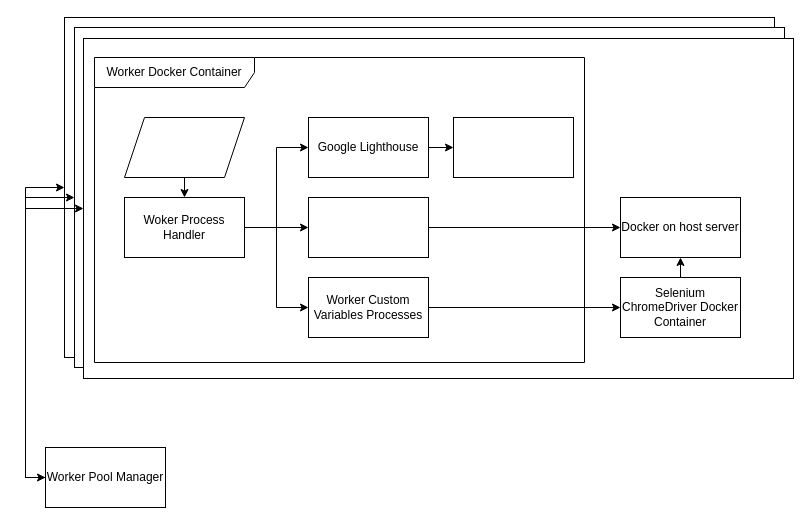
The diagram is 811 pixels wide and 525 high, and some of its shapes have lost their labels. The centre of each missing label's shape, as x and y in pixels:
"Chrome Headless Shell" belongs at pixel 513 147.
"Marmelab Greenframe" belongs at pixel 368 227.
"Page URL Variables" belongs at pixel 184 147.
